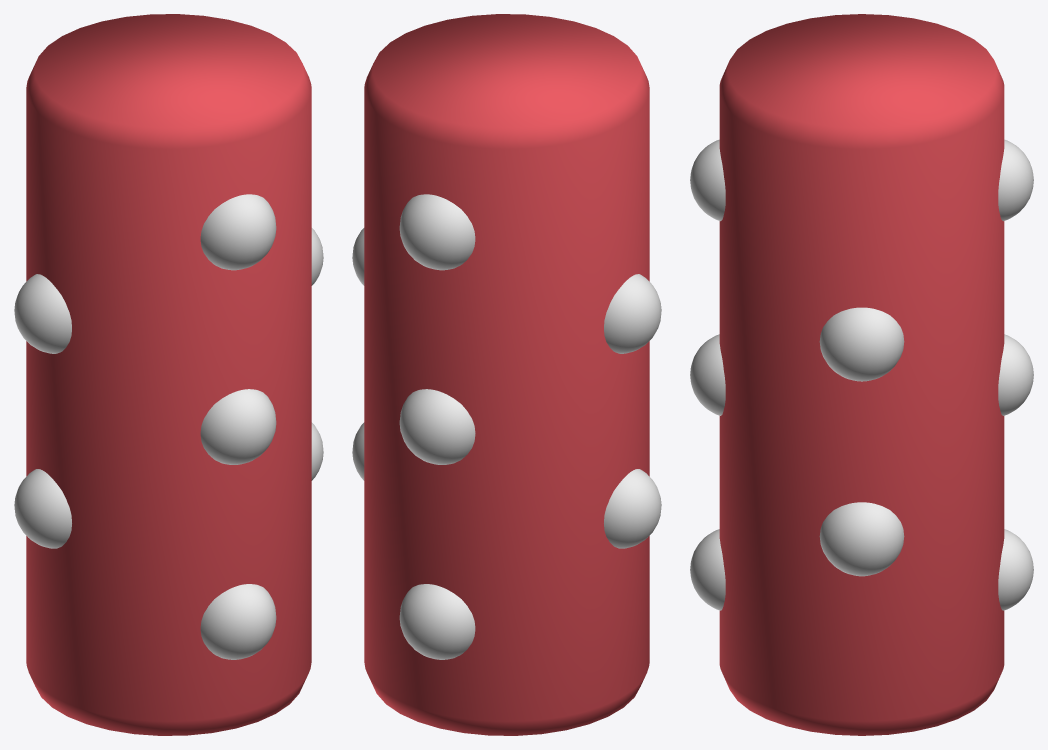
Rendered from tomruk.fbx.
3 views of the same model, side by side, from view 1: azimuth 30°, elevation 25°; view 2: azimuth 150°, elevation 25°; view 3: azimuth 270°, elevation 25° (orthographic).
Parts seen in each view (by area): view 1: Cylinder; view 2: Cylinder; view 3: Cylinder.
Boxes of the visible parts, <box> form: Cylinder: <box>14,14,323,735</box>; Cylinder: <box>352,14,661,735</box>; Cylinder: <box>690,14,1033,735</box>.
Size of the model in its own units: 240 by 468 by 240.
